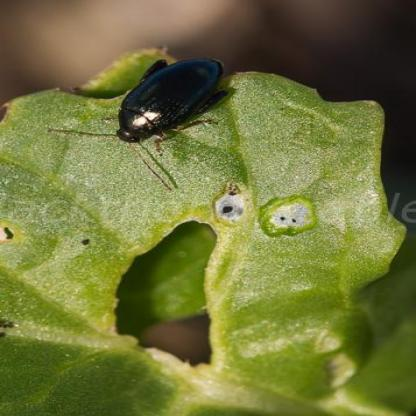beetle: (108, 40, 236, 154)
